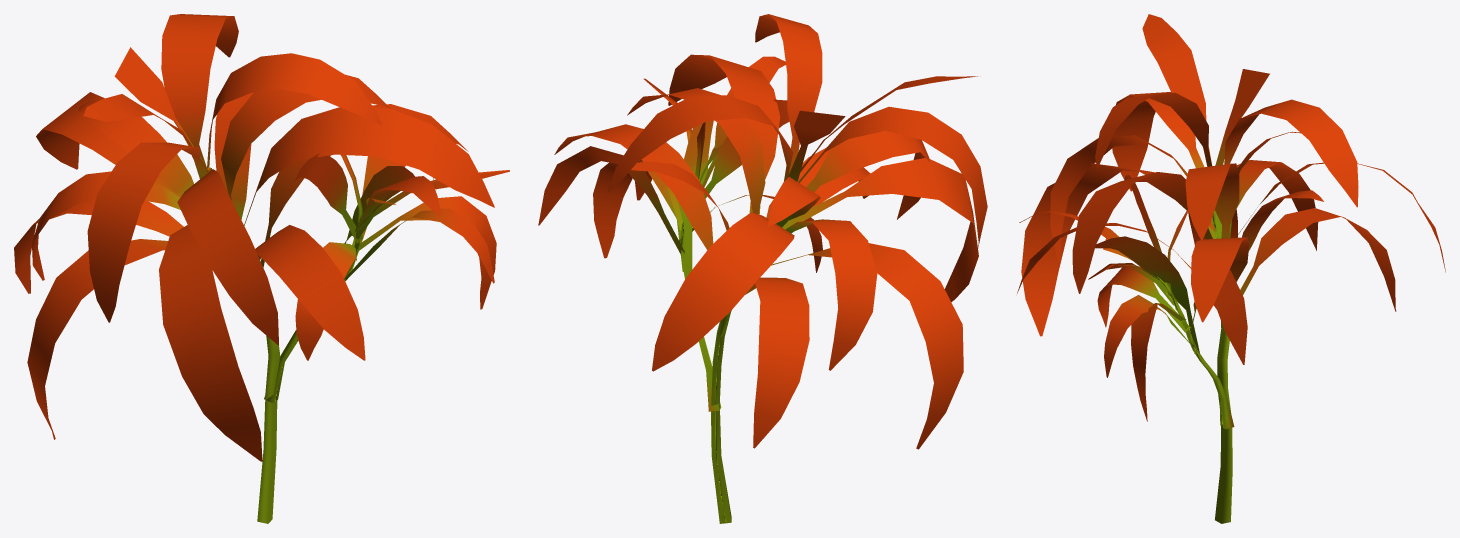
File: Pink Cordyline_LOD2_Var6_sfhhN.fbx
3 views of the same model, side by side, from view 1: azimuth 30°, elevation 25°; view 2: azimuth 150°, elevation 25°; view 3: azimuth 270°, elevation 25° (orthographic). The views are drawn at different scales.
Parts seen in each view (by area): view 1: _63da_Var6_LOD2; view 2: _63da_Var6_LOD2; view 3: _63da_Var6_LOD2.
Part boxes in pixels (box(x1,y1,x2,y2)): _63da_Var6_LOD2: box(14, 14, 509, 523); _63da_Var6_LOD2: box(538, 14, 987, 523); _63da_Var6_LOD2: box(1017, 14, 1445, 523).
Size of the model in its own units: 85.3 by 95.26 by 88.
